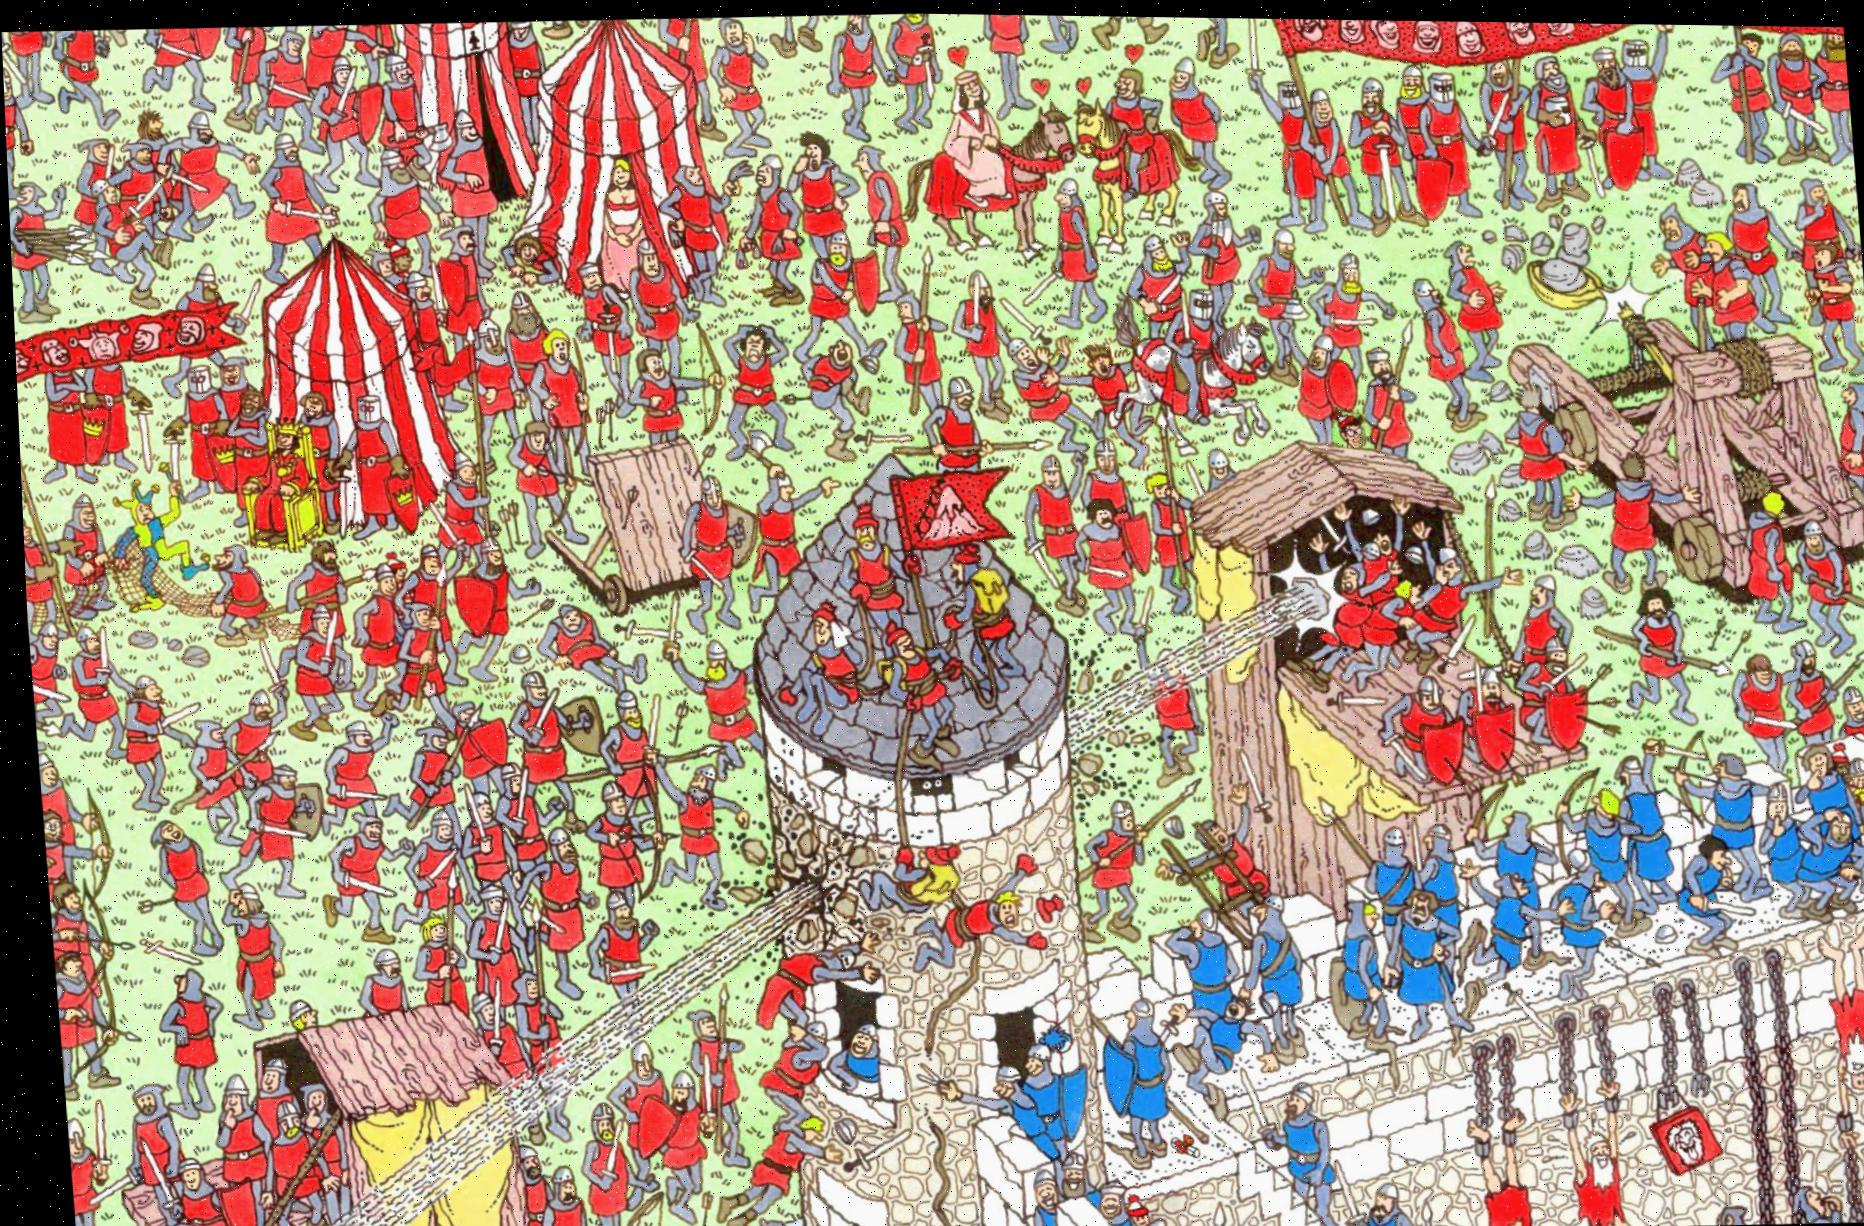waldo: (1327, 404, 1362, 445)
